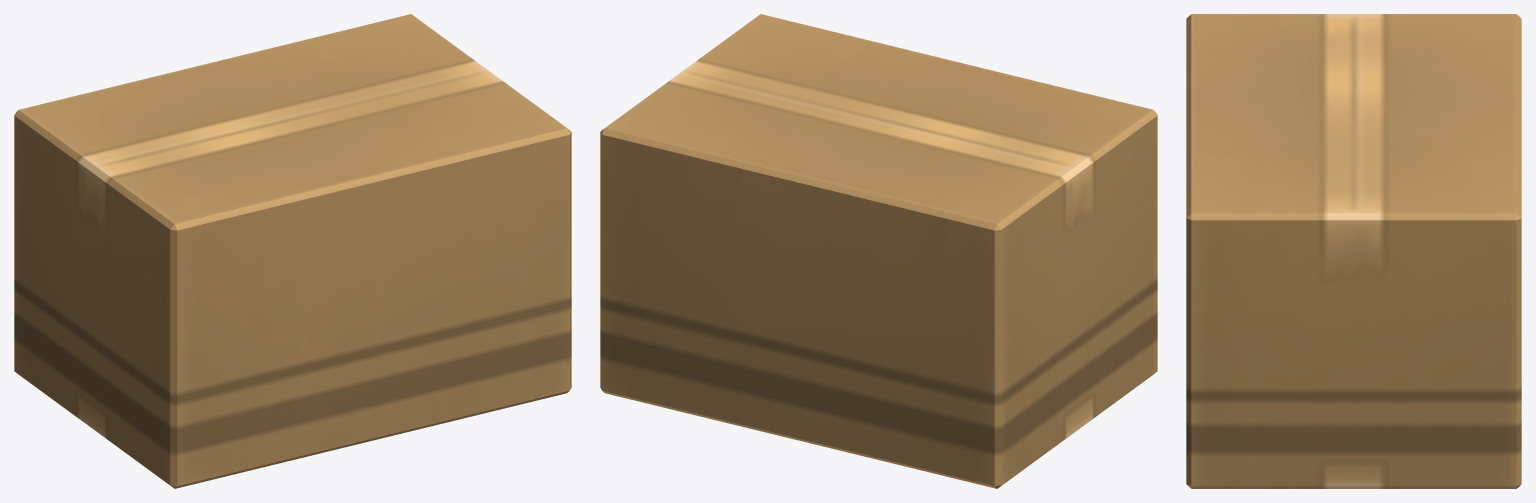
Rendered from Cardboard_01_01.fbx.
The picture shows the model from 3 angles, left to right: view 1: azimuth 30°, elevation 25°; view 2: azimuth 150°, elevation 25°; view 3: azimuth 270°, elevation 25°; orthographic projection. The views are drawn at different scales.
Visible parts, largest first — view 1: cardboard_01_01; view 2: cardboard_01_01; view 3: cardboard_01_01.
Part boxes in pixels (x1,y1,x2,y2): cardboard_01_01: [14, 14, 571, 488]; cardboard_01_01: [600, 14, 1157, 488]; cardboard_01_01: [1186, 14, 1521, 488].
Size of the model in its own units: 46 by 29 by 32.
